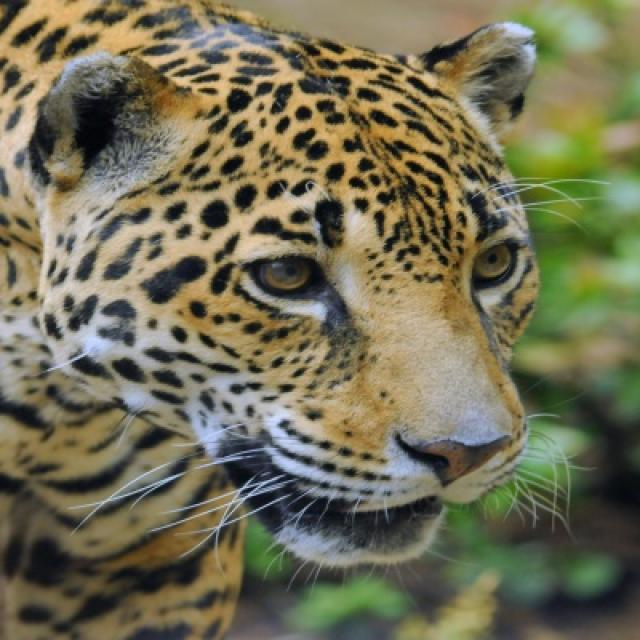Jaguar: (0, 0, 568, 638)
